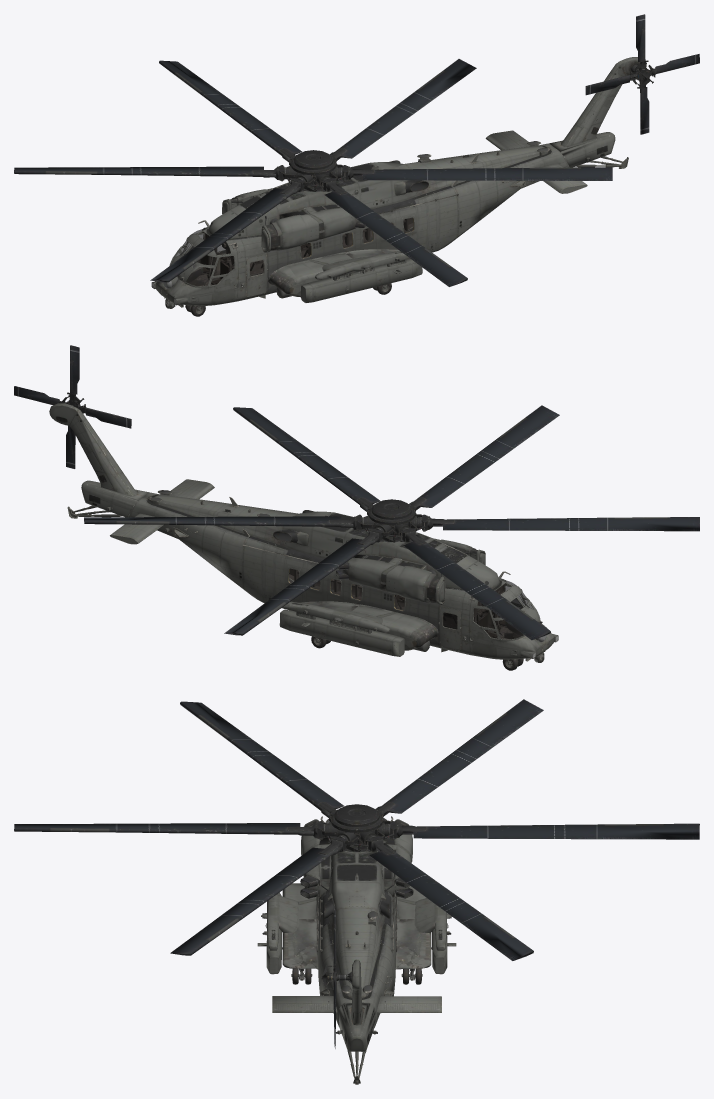
3 renders of one model, top to bottom at view 1: azimuth 30°, elevation 25°; view 2: azimuth 150°, elevation 25°; view 3: azimuth 270°, elevation 25°, orthographic. The views are drawn at different scales.
Visible parts, largest first — view 1: Object_8, Object_4, Object_3, Object_2, Object_5, Object_13, Object_9, Object_12, Object_7, Object_11; view 2: Object_8, Object_4, Object_3, Object_2, Object_5, Object_13, Object_9, Object_12, Object_7, Object_11; view 3: Object_8, Object_4, Object_2, Object_3, Object_12, Object_9, Object_13, Object_11, Object_5.
Part boxes in pixels (x1,y1,x2,y2): Object_8: (14,14,699,305); Object_4: (222,188,422,302); Object_3: (388,130,628,252); Object_2: (208,145,548,238); Object_5: (155,57,646,305); Object_13: (185,197,421,316); Object_9: (170,132,615,287); Object_12: (252,60,656,194); Object_7: (183,217,413,286); Object_11: (161,141,591,307); Object_8: (14,345,699,658); Object_4: (279,538,477,656); Object_3: (67,479,314,609); Object_2: (149,494,499,588); Object_5: (49,403,554,659); Object_13: (280,547,523,670); Object_9: (81,480,539,640); Object_12: (59,392,454,544); Object_7: (289,568,525,639); Object_11: (106,490,548,661); Object_8: (14,699,699,1048); Object_4: (257,821,456,974); Object_2: (319,837,395,998); Object_3: (272,898,441,1084); Object_12: (287,802,426,993); Object_9: (316,817,397,1051); Object_13: (292,891,421,984); Object_11: (262,816,451,1034); Object_5: (351,959,362,1025).
Bounding box in the file's own units: 249 × 78.22 × 213.
Materials: 10 (9 with a texture image).
